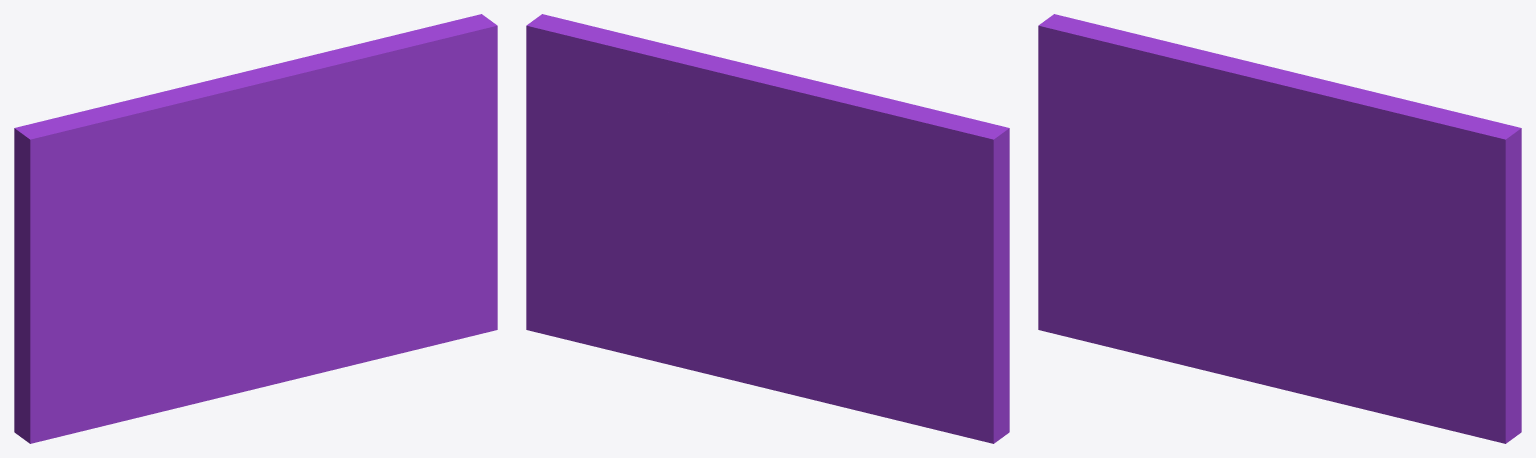
The model's file is Barrier_114_chunks.fbx.
3 views of the same model, side by side, from view 1: azimuth 30°, elevation 25°; view 2: azimuth 150°, elevation 25°; view 3: azimuth 330°, elevation 25° (orthographic).
Parts seen in each view (by area): view 1: Barrier_114_0, Barrier_114_8, Barrier_114_4, Barrier_114_3, Barrier_114_9, Barrier_114_1, Barrier_114_5, Barrier_114_6, Barrier_114_2; view 2: Barrier_114_0, Barrier_114_3, Barrier_114_8, Barrier_114_4, Barrier_114_9, Barrier_114_6, Barrier_114_2, Barrier_114_7; view 3: Barrier_114_0, Barrier_114_8, Barrier_114_3, Barrier_114_4, Barrier_114_9, Barrier_114_1, Barrier_114_5, Barrier_114_6, Barrier_114_2.
Part boxes in pixels (<box>): Barrier_114_0: <box>14,91,252,443</box>; Barrier_114_8: <box>338,14,497,210</box>; Barrier_114_4: <box>181,274,370,406</box>; Barrier_114_3: <box>395,175,497,354</box>; Barrier_114_9: <box>167,26,439,140</box>; Barrier_114_1: <box>178,97,303,253</box>; Barrier_114_5: <box>331,197,416,360</box>; Barrier_114_6: <box>219,114,344,220</box>; Barrier_114_2: <box>243,193,419,277</box>; Barrier_114_0: <box>760,92,1009,443</box>; Barrier_114_3: <box>526,185,686,361</box>; Barrier_114_8: <box>526,14,676,219</box>; Barrier_114_4: <box>659,274,837,405</box>; Barrier_114_9: <box>578,28,848,134</box>; Barrier_114_6: <box>674,105,838,239</box>; Barrier_114_2: <box>630,209,775,277</box>; Barrier_114_7: <box>635,94,708,190</box>; Barrier_114_0: <box>1038,14,1260,366</box>; Barrier_114_8: <box>1346,115,1521,288</box>; Barrier_114_3: <box>1403,269,1521,443</box>; Barrier_114_4: <box>1189,264,1378,412</box>; Barrier_114_9: <box>1199,51,1468,176</box>; Barrier_114_1: <box>1187,61,1311,248</box>; Barrier_114_5: <box>1340,271,1424,418</box>; Barrier_114_6: <box>1227,92,1352,250</box>; Barrier_114_2: <box>1251,240,1427,310</box>.
Size of the model in its own units: 462 by 288 by 27.2.
